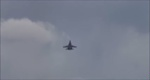maybay_muctieu: (64, 37, 78, 53)
